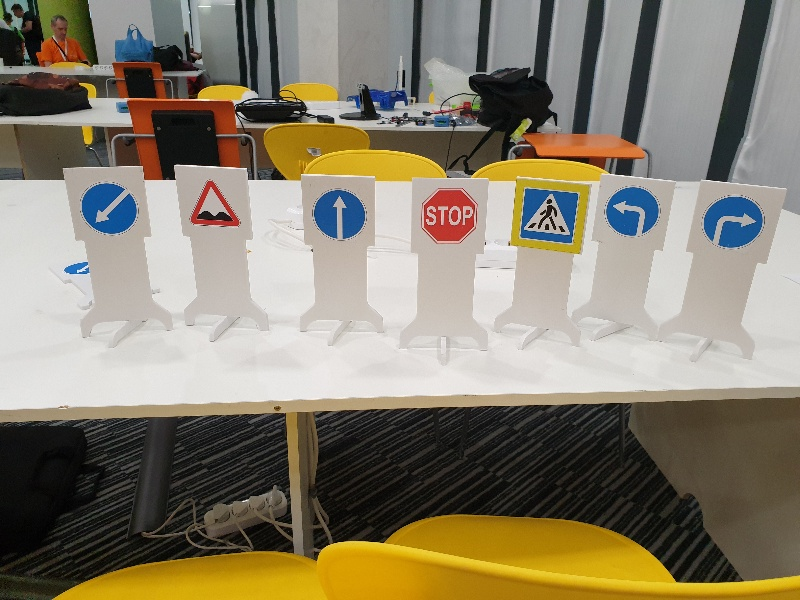Left: (599, 184, 663, 243)
Nerov: (181, 173, 247, 230)
Right: (698, 190, 768, 251)
Stop: (415, 183, 482, 246)
forw: (306, 186, 372, 243)
pesh: (517, 184, 584, 247)
prep: (75, 181, 141, 238)
